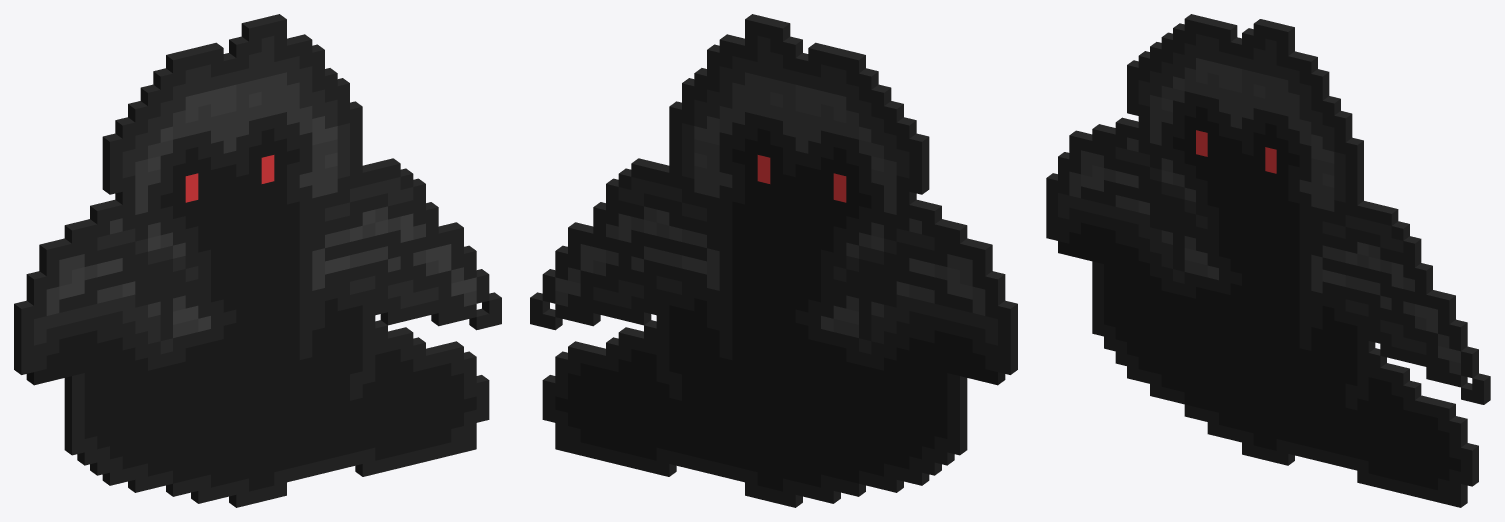
File: Shade.obj
3 renders of one model, left to right at view 1: azimuth 30°, elevation 25°; view 2: azimuth 150°, elevation 25°; view 3: azimuth 330°, elevation 25°, orthographic. The views are drawn at different scales.
Size of the model in its own units: 3.8 by 3.6 by 0.1.
Materials: 1 (1 with a texture image).
